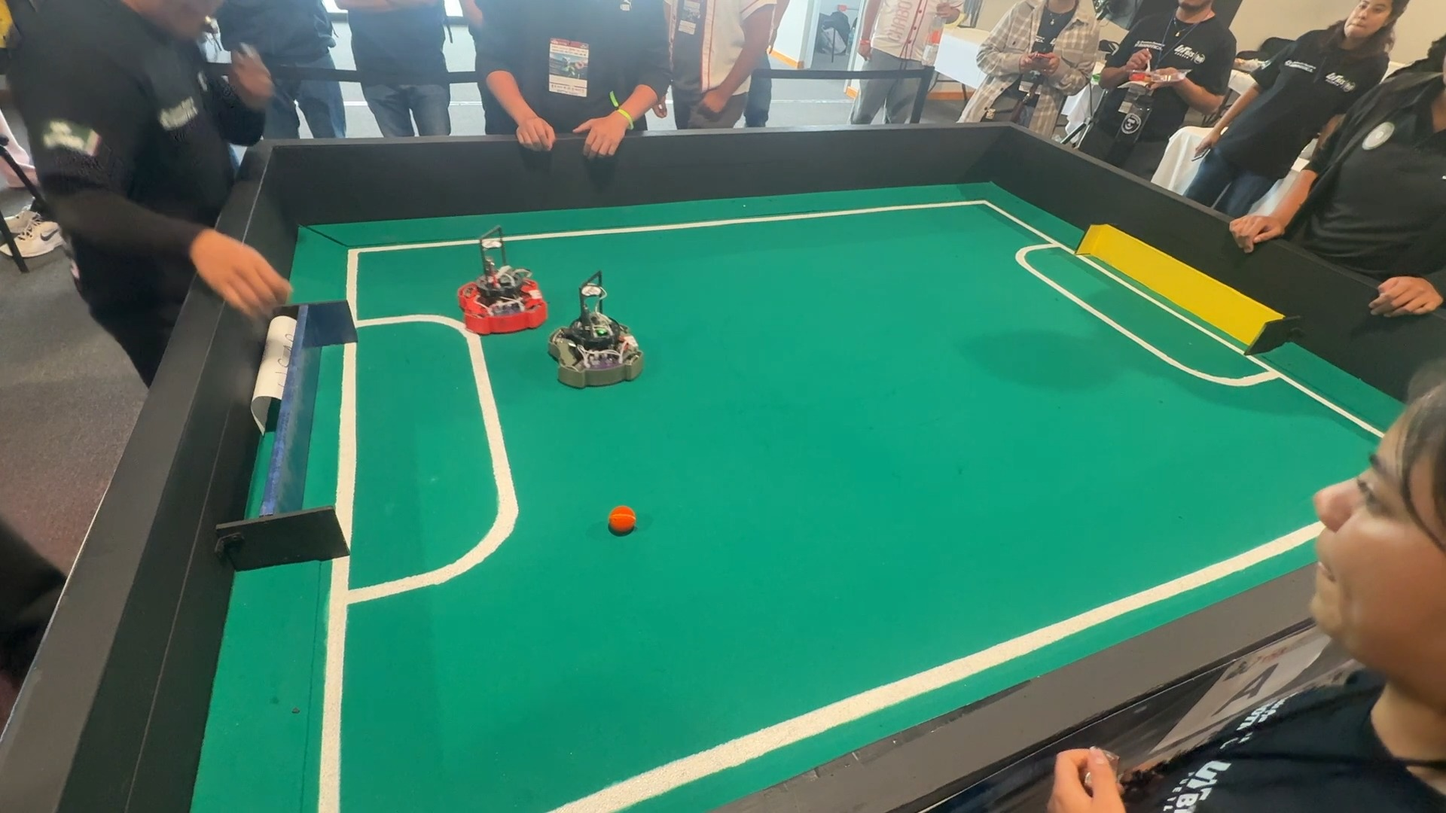Robot: (537, 280, 647, 401), (454, 232, 553, 332)
pelota: (606, 508, 642, 541)
